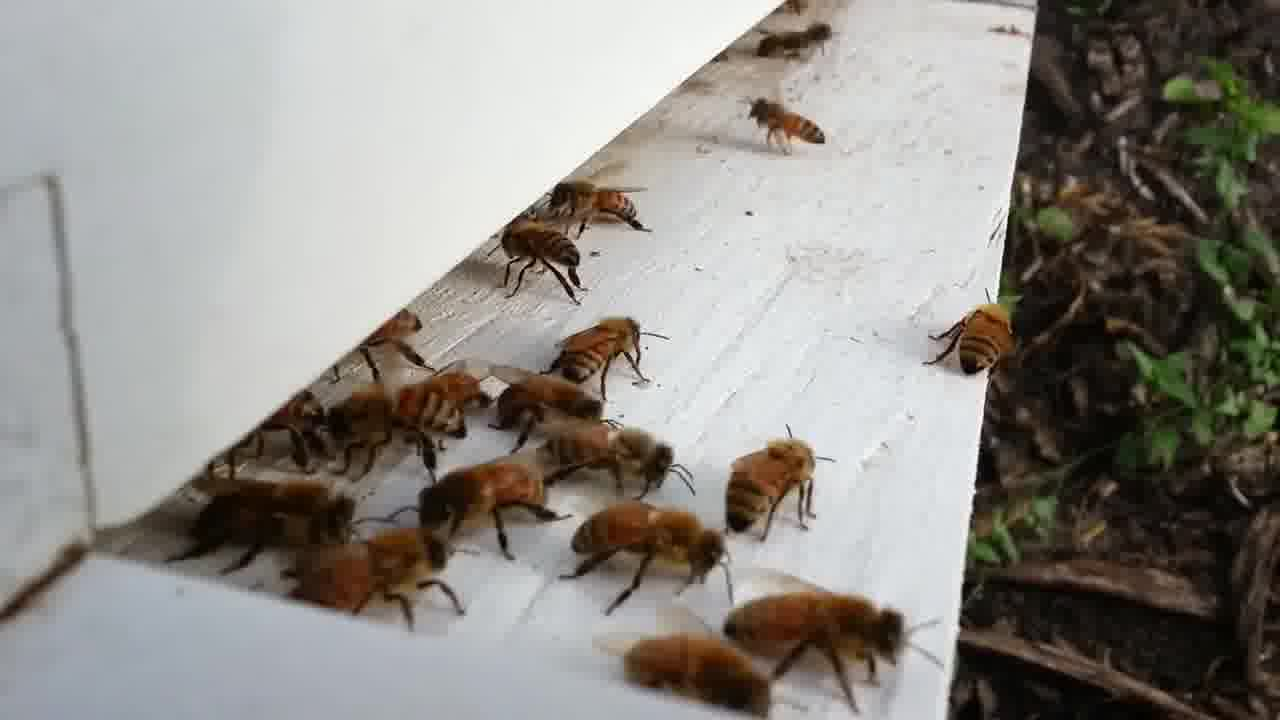pollen: (743, 94, 829, 154)
